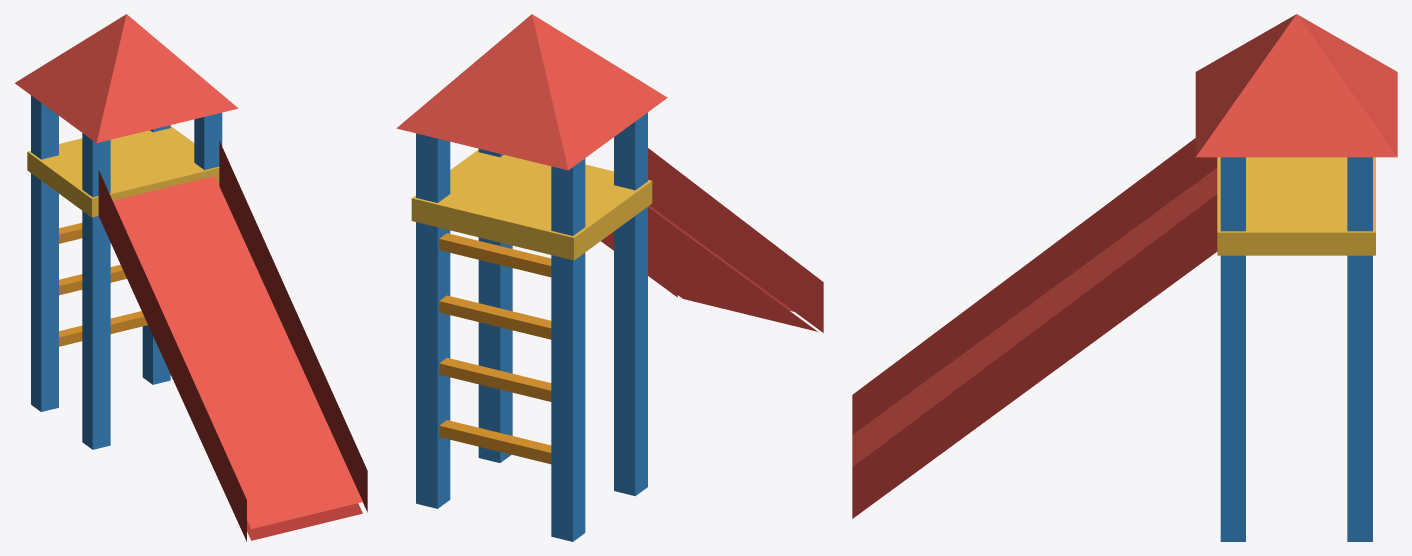
Rendered from P_Slide.fbx.
3 renders of one model, left to right at view 1: azimuth 30°, elevation 25°; view 2: azimuth 150°, elevation 25°; view 3: azimuth 270°, elevation 25°, orthographic. The views are drawn at different scales.
Parts seen in each view (by area): view 1: P_Slide; view 2: P_Slide; view 3: P_Slide.
Boxes of the visible parts, left/top/right/bottom form: P_Slide: left=15, top=14, right=367, bottom=541; P_Slide: left=396, top=14, right=823, bottom=541; P_Slide: left=852, top=14, right=1397, bottom=541.
Bounding box in the file's own units: 0.6364 × 1.7 × 1.72.
